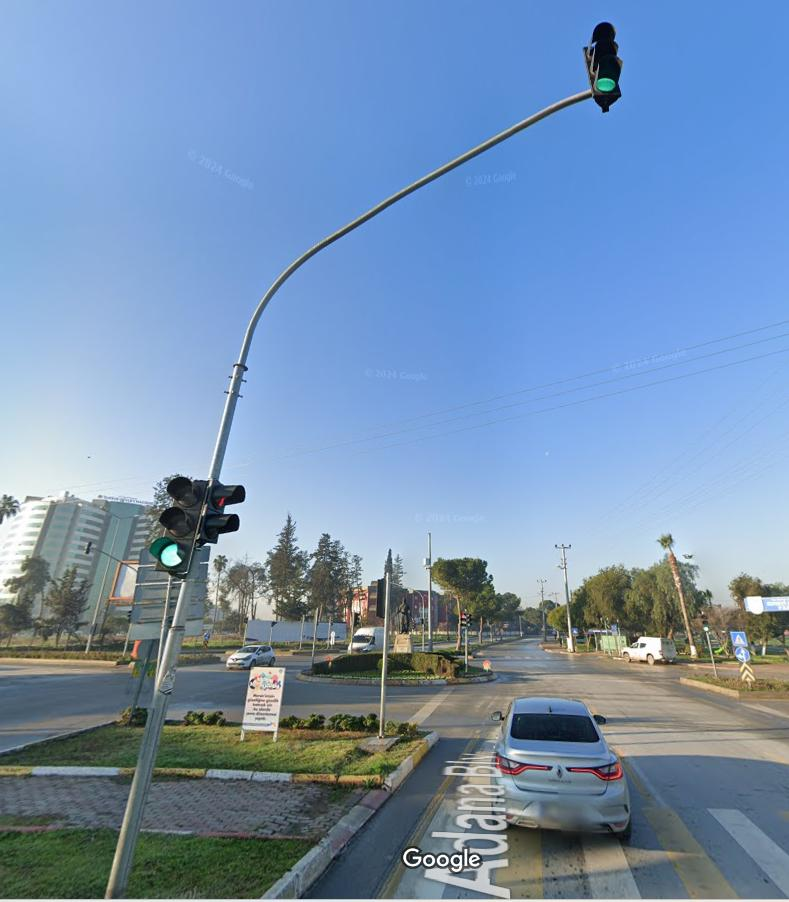greenlight: (160, 474, 200, 580), (586, 25, 623, 105), (701, 613, 710, 634), (466, 613, 472, 629)
redlight: (460, 611, 465, 630)
